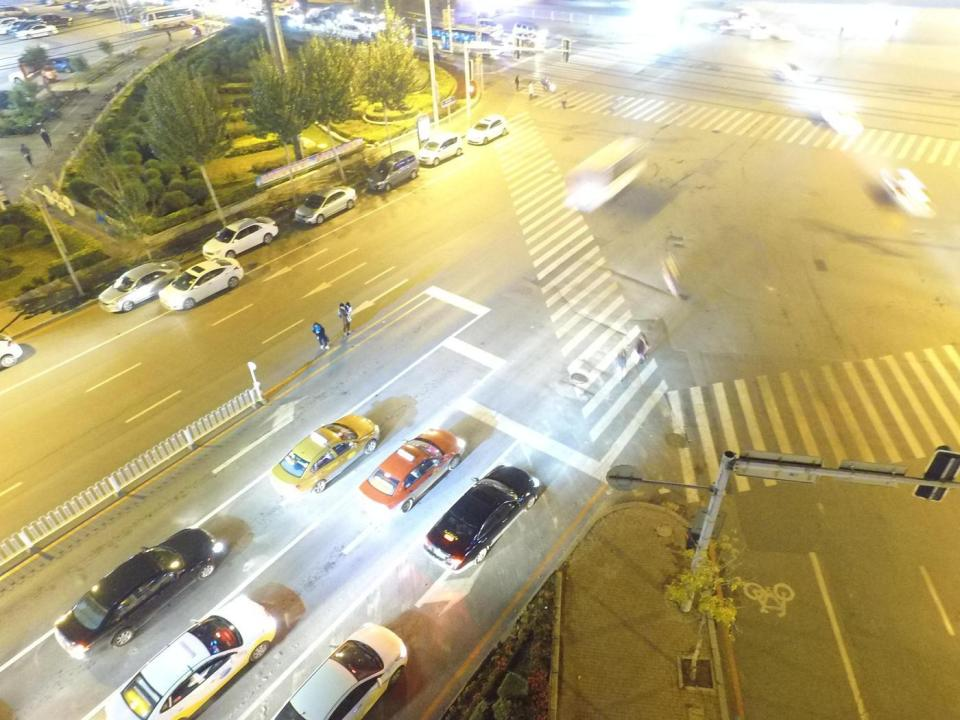bus: (564, 136, 646, 212), (414, 20, 502, 58), (142, 5, 193, 30)
car: (56, 526, 222, 664), (107, 593, 276, 720), (268, 623, 407, 720), (424, 463, 540, 574), (359, 428, 467, 514), (269, 414, 379, 497), (158, 258, 244, 309), (97, 261, 181, 312), (202, 216, 278, 259), (880, 168, 932, 216), (295, 186, 356, 223), (466, 116, 507, 145), (8, 67, 58, 85), (42, 57, 86, 72), (15, 24, 59, 38), (33, 13, 73, 28), (9, 20, 44, 35), (0, 18, 32, 34), (513, 32, 543, 47), (0, 15, 23, 33), (85, 0, 110, 13), (0, 6, 29, 17), (337, 23, 361, 35), (277, 15, 298, 28), (71, 0, 91, 10), (354, 16, 372, 27)
van: (366, 151, 419, 193), (419, 134, 462, 166), (512, 21, 547, 37)
